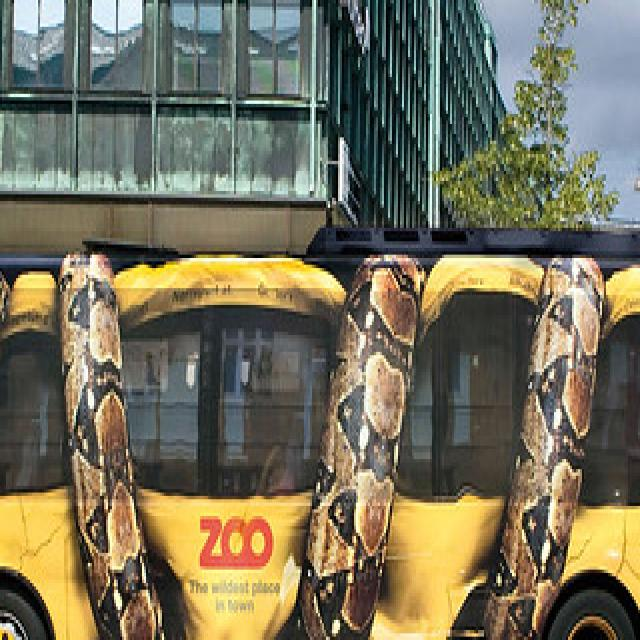snake: (0, 238, 640, 640)
